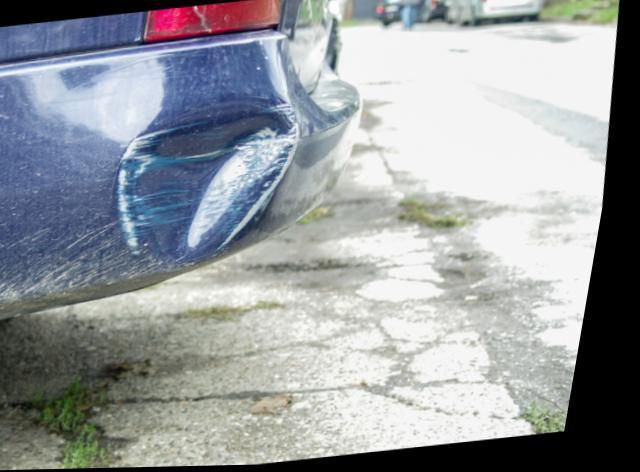dent: (127, 94, 301, 262)
